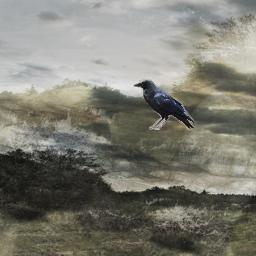Crow: (133, 79, 194, 130)
